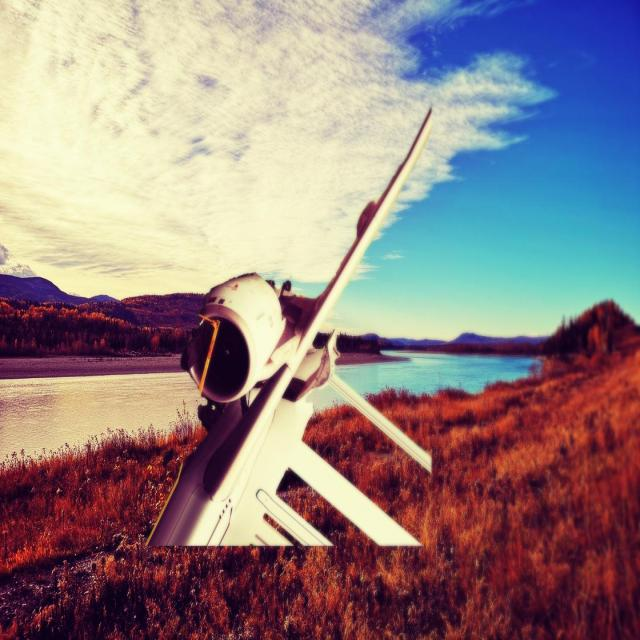airplane: (143, 105, 435, 549)
